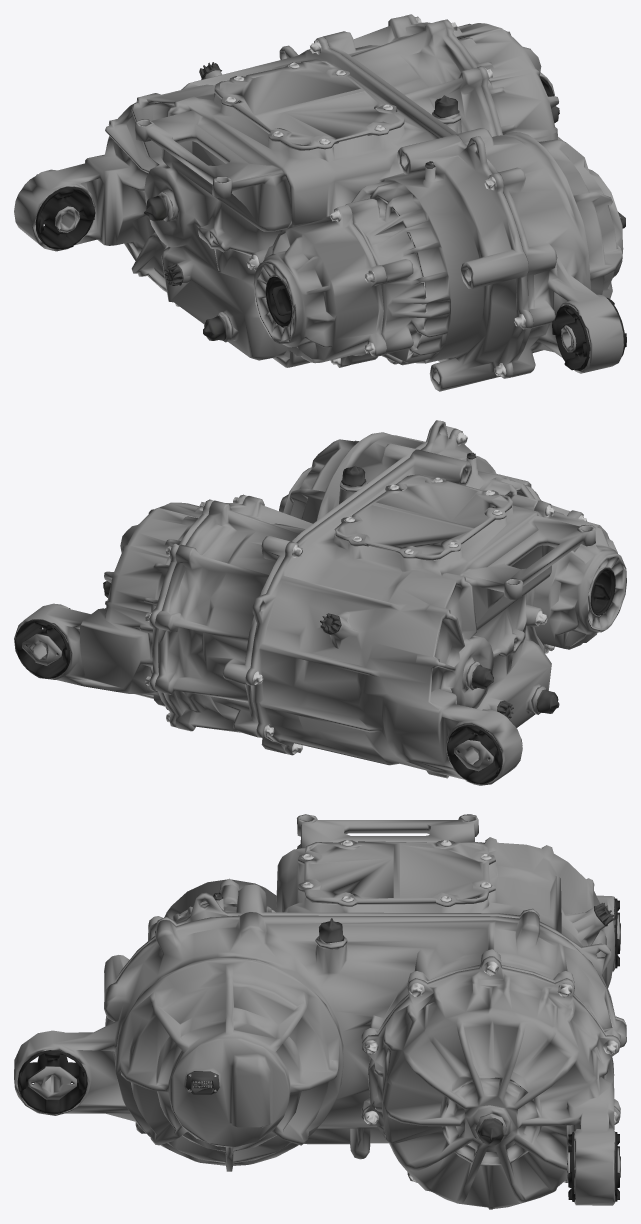
The model's file is SR-engineAssembly_electric_engine_a01.glb.
3 views of the same model, one above another, from view 1: azimuth 30°, elevation 25°; view 2: azimuth 150°, elevation 25°; view 3: azimuth 270°, elevation 25° (orthographic). The views are drawn at different scales.
Bounding box in the file's own units: 0.6379 × 0.2862 × 0.6207.
4 materials, 2 textured.
